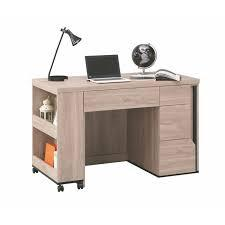desk: (14, 25, 213, 198)
